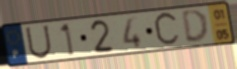1: (59, 22, 77, 58)
2: (89, 18, 117, 56)
4: (121, 15, 144, 50)
C: (152, 10, 182, 49)
D: (180, 8, 211, 45)
U: (24, 24, 54, 60)
